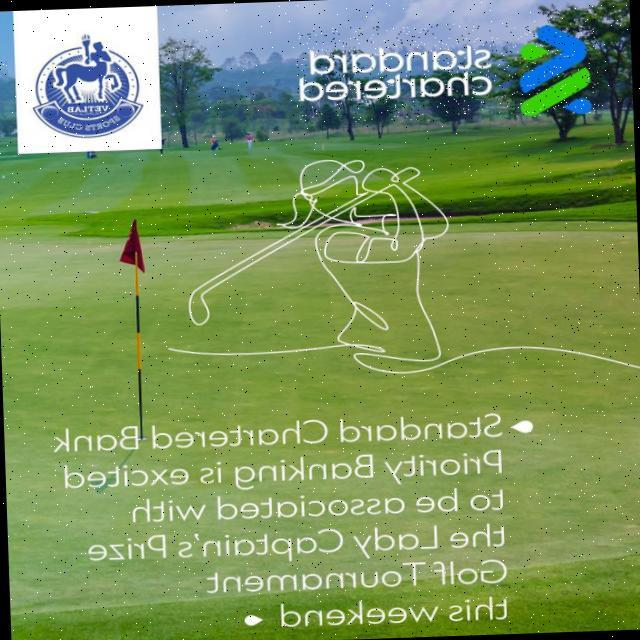Standard Chartered: (294, 19, 599, 125)
